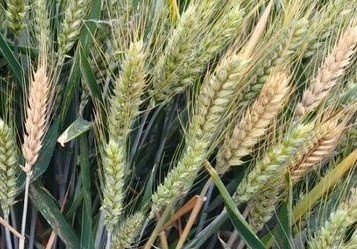Wheat scab: (295, 30, 357, 112), (19, 57, 54, 168)
